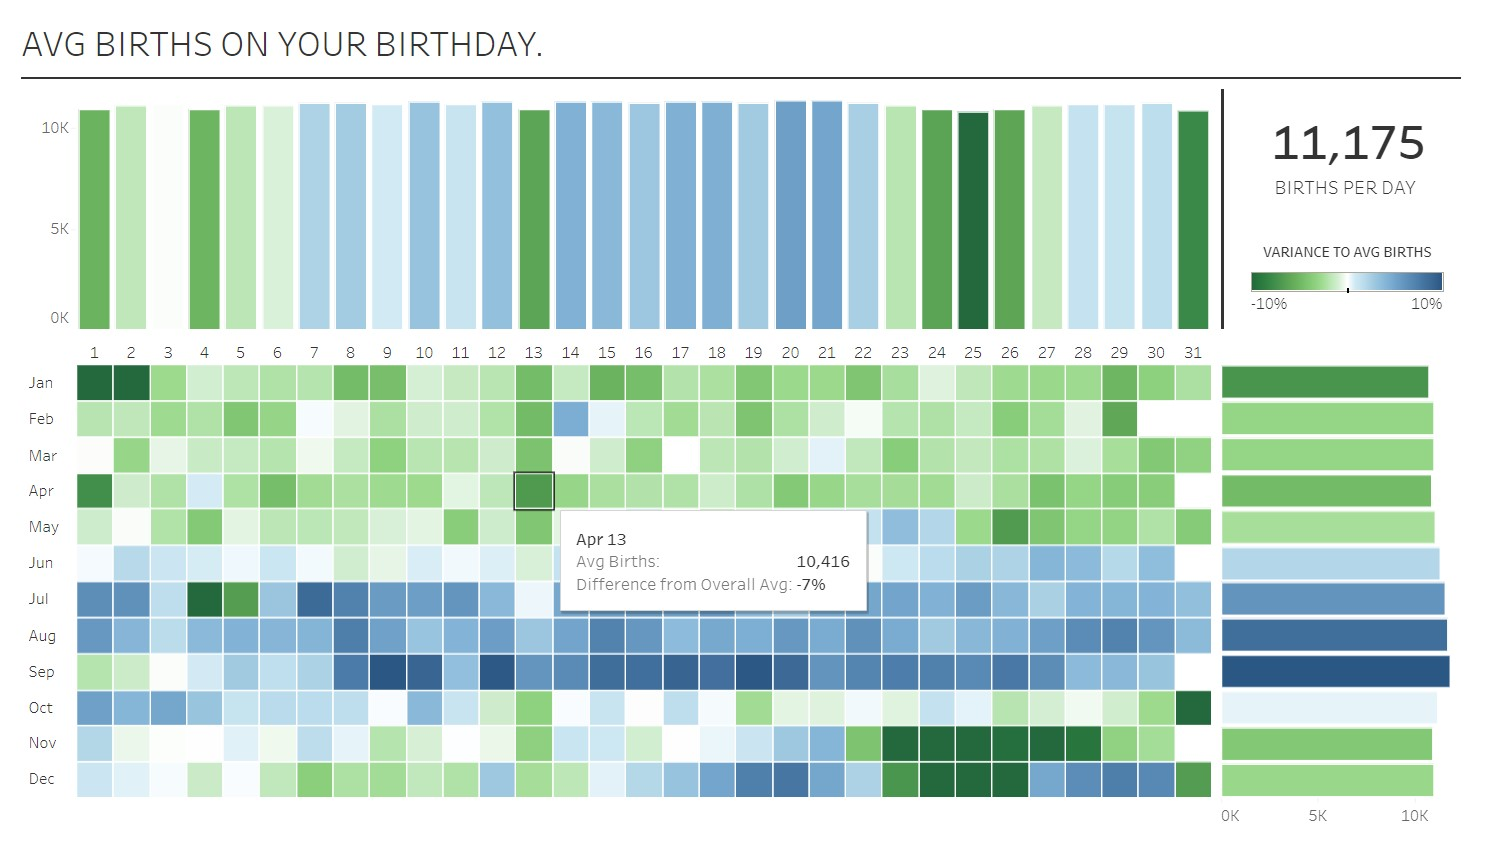

This screenshot's page, from the dashboard's own definition file:
{"tool":"tableau","page":{"name":"FINAL VIEW","canvas":[1200,700],"ordinal":0},"visuals":[{"type":"text","box":[20,20,1160,46]},{"type":"blank","box":[20,66,1160,10]},{"type":"worksheet","title":"AVG BIRTHS BY DAY","mark":"Automatic","rows":["births"],"cols":["date_of_month"],"box":[20,76,959.9,200]},{"type":"blank","box":[979.9,76,10,200]},{"type":"worksheet","title":"AVERAGE BIRTHS","mark":"Automatic","box":[989.9,76,190,112]},{"type":"legend","title":"AVG BIRTHS ALL YEAR","param":"[federated.13sh5pt02dyuhu1ejaftp1r4dzw0].[usr:Difference From Avg (copy)_5859112","box":[989.9,188,190,88]},{"type":"worksheet","title":"AVG BIRTHS ALL YEAR","mark":"Automatic","rows":["Calculation_5824632120316432384"],"cols":["date_of_month"],"box":[20,276,959.9,404]},{"type":"worksheet","title":"AVG BIRTHS BY MONTH","mark":"Bar","rows":["Calculation_5824632120316432384"],"cols":["Calculation_5859112804977840158","births"],"box":[979.9,276,200,404]}]}

Visuals, with their boxes on the page's 1200x700 design canvas (x1, y1, x2, y2). These are canvas units, not pixel positions in the 1505x842 screenshot, which may show the page scaled, cropped or inside an application window:
text: bbox(20, 20, 1180, 66)
blank: bbox(20, 66, 1180, 76)
"AVG BIRTHS BY DAY" worksheet: bbox(20, 76, 980, 276)
blank: bbox(980, 76, 990, 276)
"AVERAGE BIRTHS" worksheet: bbox(990, 76, 1180, 188)
"AVG BIRTHS ALL YEAR" legend: bbox(990, 188, 1180, 276)
"AVG BIRTHS ALL YEAR" worksheet: bbox(20, 276, 980, 680)
"AVG BIRTHS BY MONTH" worksheet (Bar marks): bbox(980, 276, 1180, 680)
